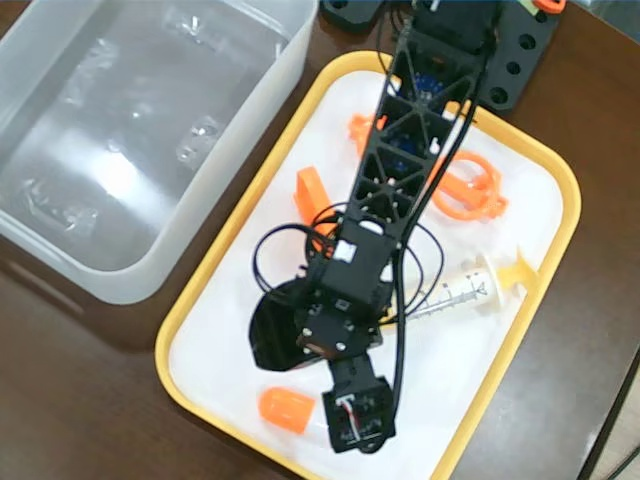pill: (260, 388, 338, 441)
syringe: (402, 245, 540, 330)
